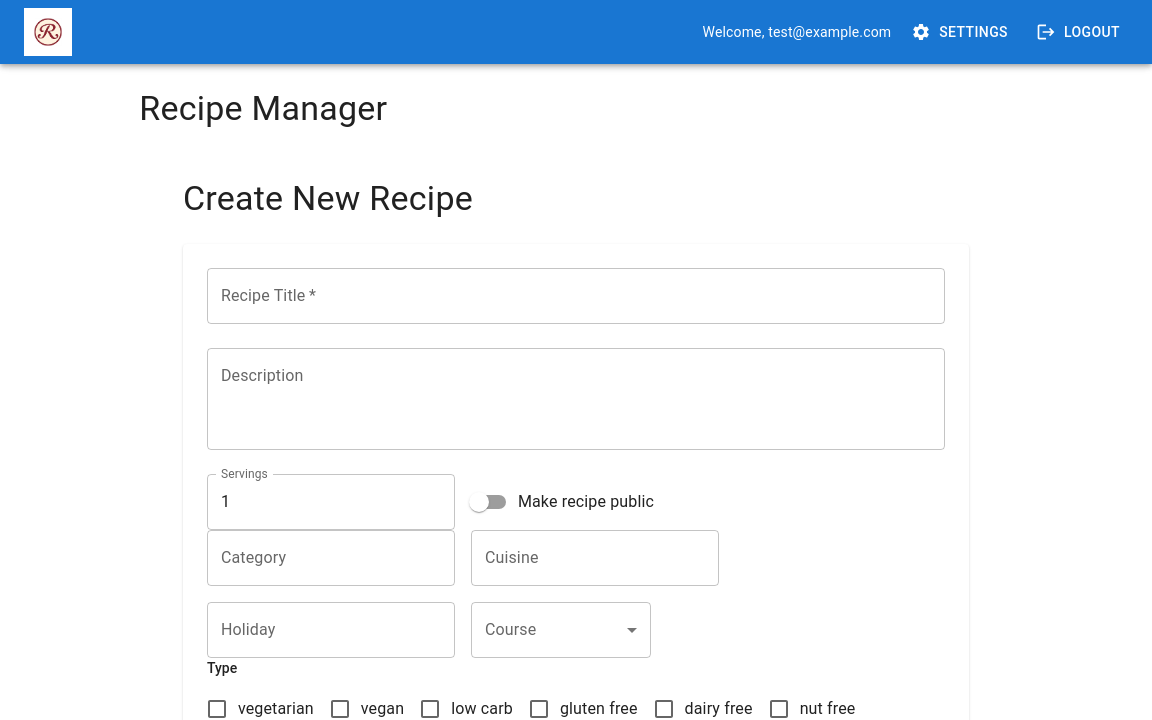
Scenario: RecipeEditPage › Form actions › Create Recipe button is enabled when title is provided
The image size is (1152, 720).
Type "Test Recipe" into the field labelled "Recipe Title *".
click(576, 296); type("Test Recipe")  # box left=207, top=268, right=945, bottom=324
(page scrolled)
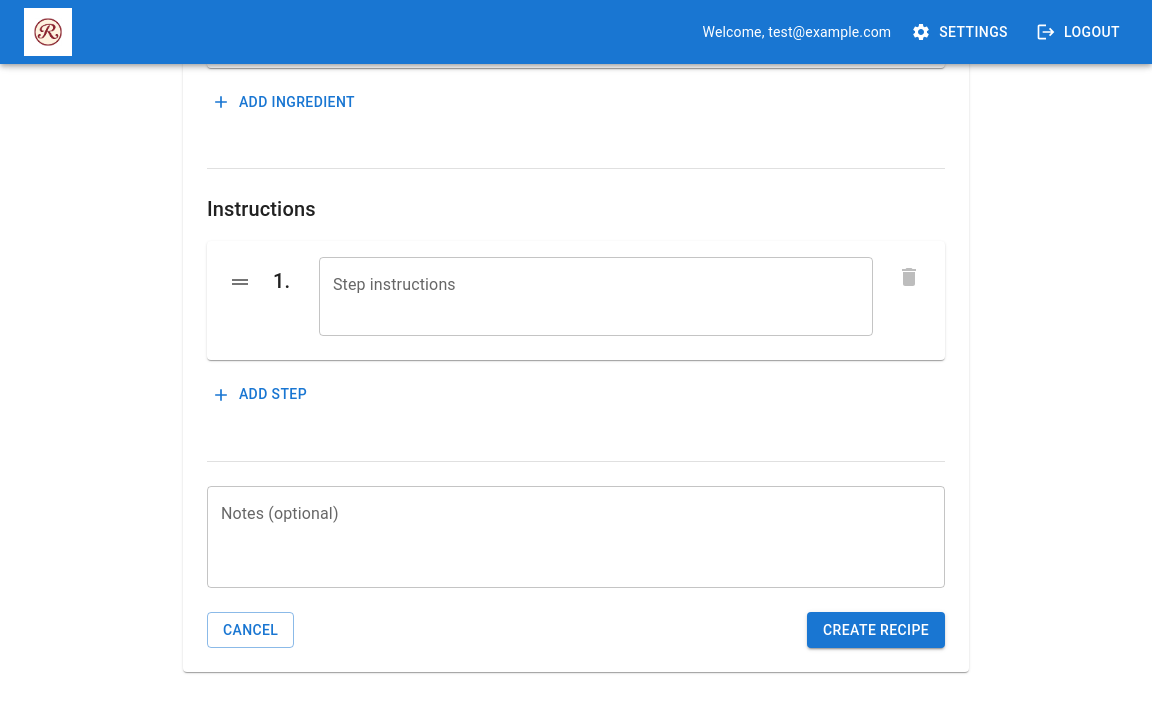
Result: the button "Create Recipe" is enabled at left=807, top=612, right=945, bottom=648
